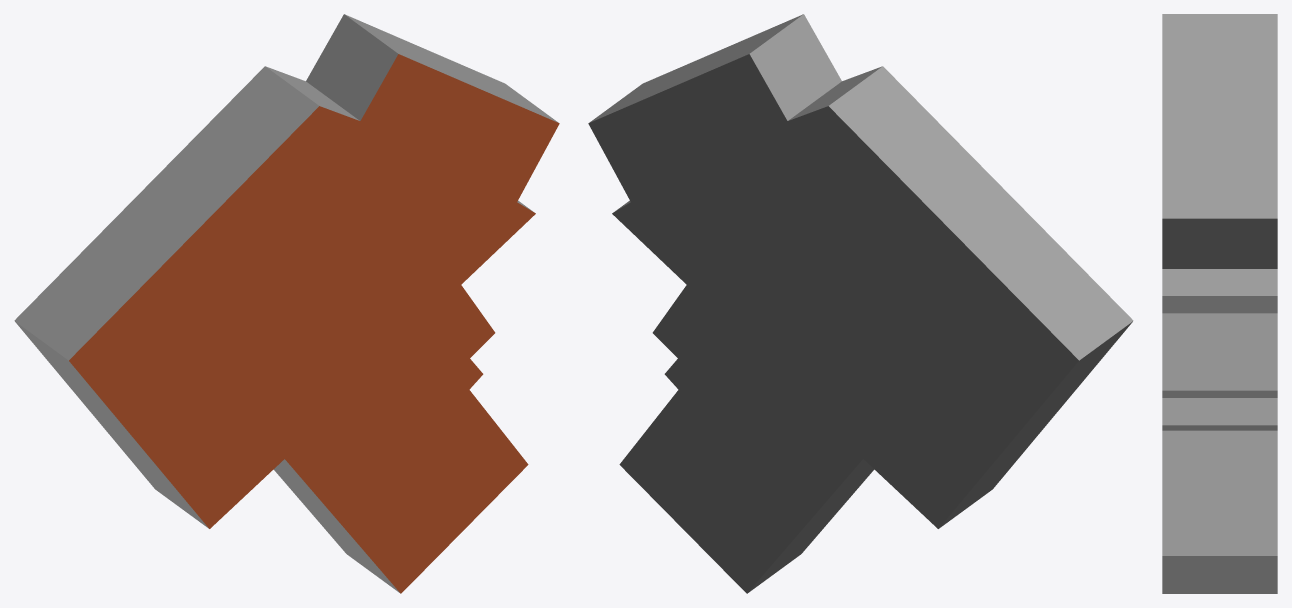
File: construction_3385_assumed_A_Casa_h6m.obj
3 views of the same model, side by side, from view 1: azimuth 30°, elevation 25°; view 2: azimuth 150°, elevation 25°; view 3: azimuth 270°, elevation 25° (orthographic). The views are drawn at different scales.
Visible parts, largest first — view 1: construction_3385_assumed_A_Casa; view 2: construction_3385_assumed_A_Casa; view 3: construction_3385_assumed_A_Casa.
Boxes of the visible parts, x1,y1,x2,y2 form: construction_3385_assumed_A_Casa: (14,14,559,593); construction_3385_assumed_A_Casa: (588,14,1133,593); construction_3385_assumed_A_Casa: (1162,14,1277,593).
Size of the model in its own units: 31.2 by 32.83 by 6.
